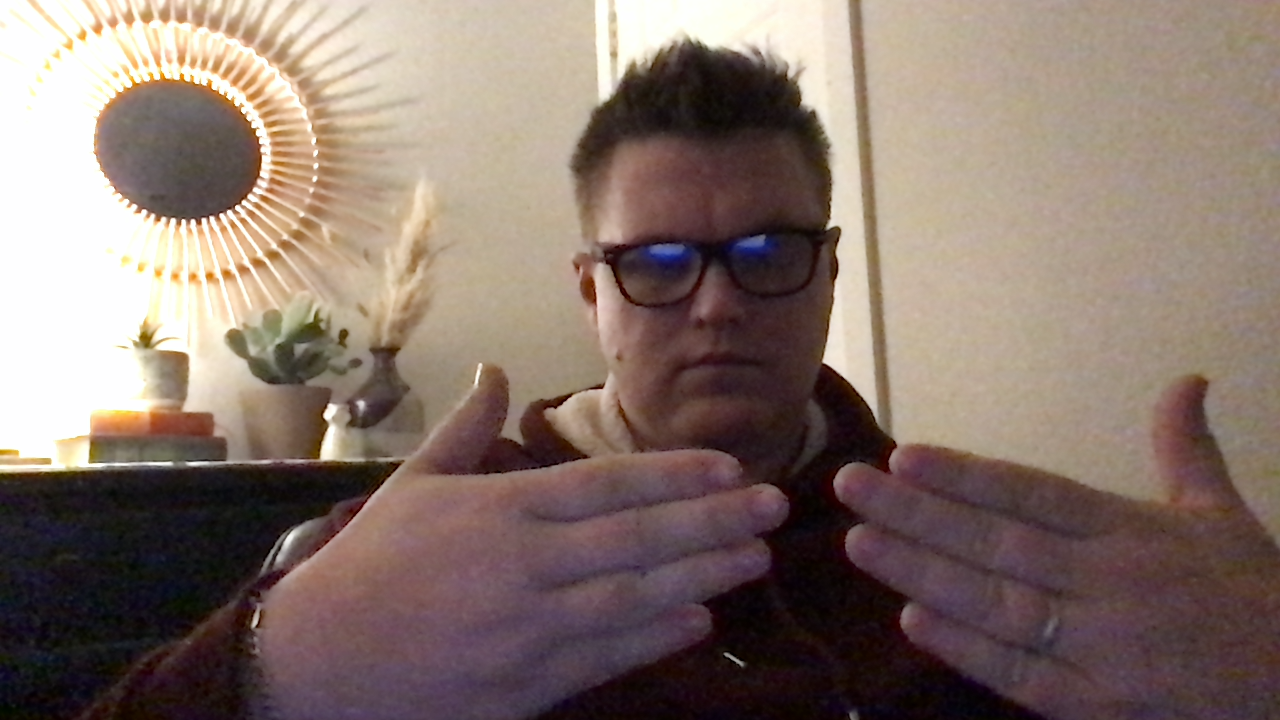thankyou: (238, 367, 1280, 720)
